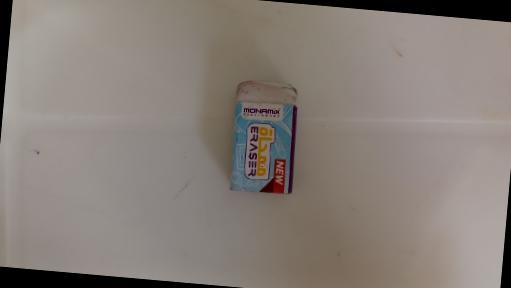Eraser: (228, 80, 300, 196)
